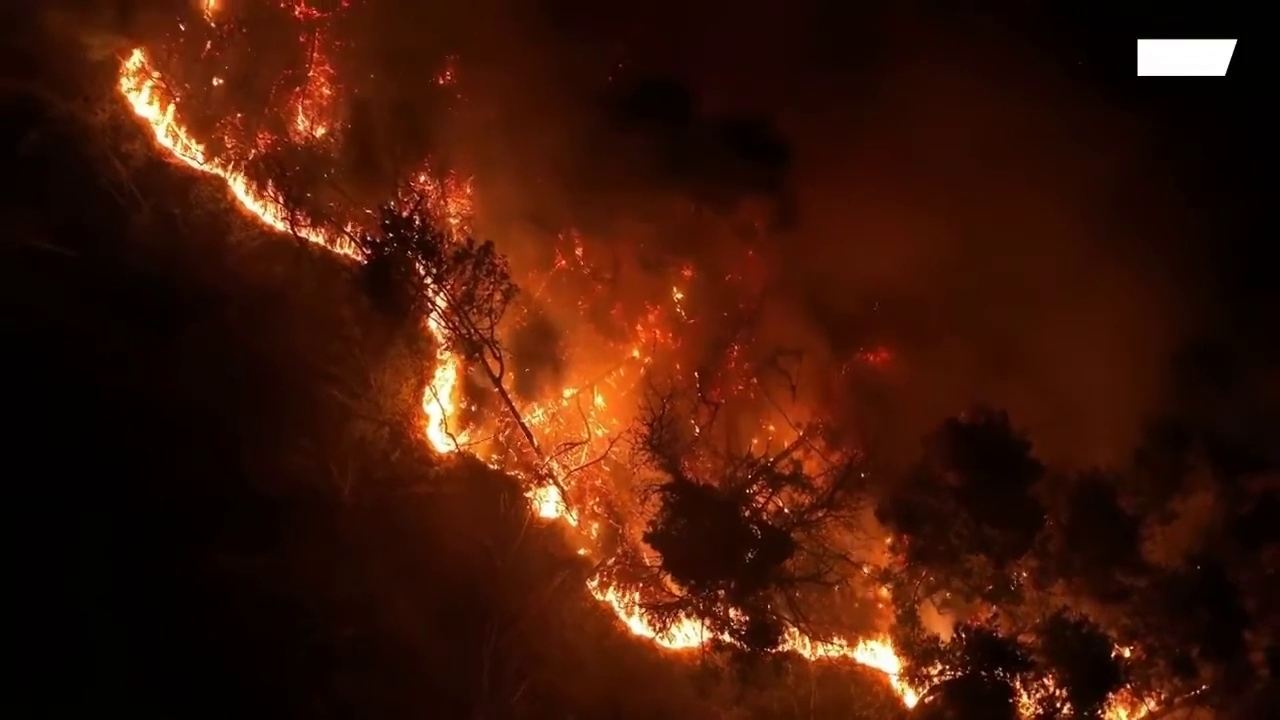forest_fire: (422, 267, 696, 551), (120, 0, 359, 257), (784, 627, 925, 706), (587, 581, 711, 649), (521, 233, 591, 294), (413, 169, 471, 229), (750, 412, 802, 445), (718, 366, 764, 393), (200, 0, 222, 33), (1109, 705, 1145, 718), (862, 348, 889, 364), (554, 296, 599, 304), (211, 77, 223, 85), (726, 348, 737, 356), (203, 40, 210, 50), (441, 74, 449, 80), (690, 377, 697, 382), (237, 128, 238, 129)
